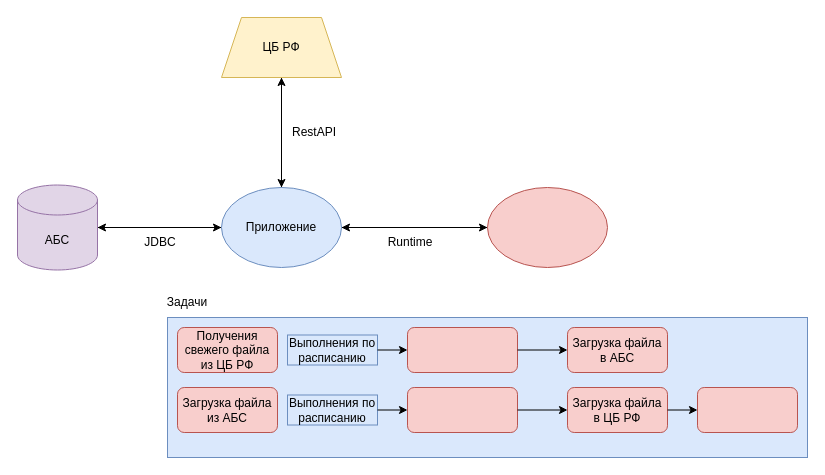
This 825x475 diagram has some shape labels left out. Here are the shapes that lost their labels. From the top down, the centre of each, then its label:
pixel 547 227: CryptCP
pixel 462 349: Расшифрования файла с помощью CryptCP
pixel 462 409: Шифрования файла с помощью CryptCP
pixel 747 409: Получения квинтации
